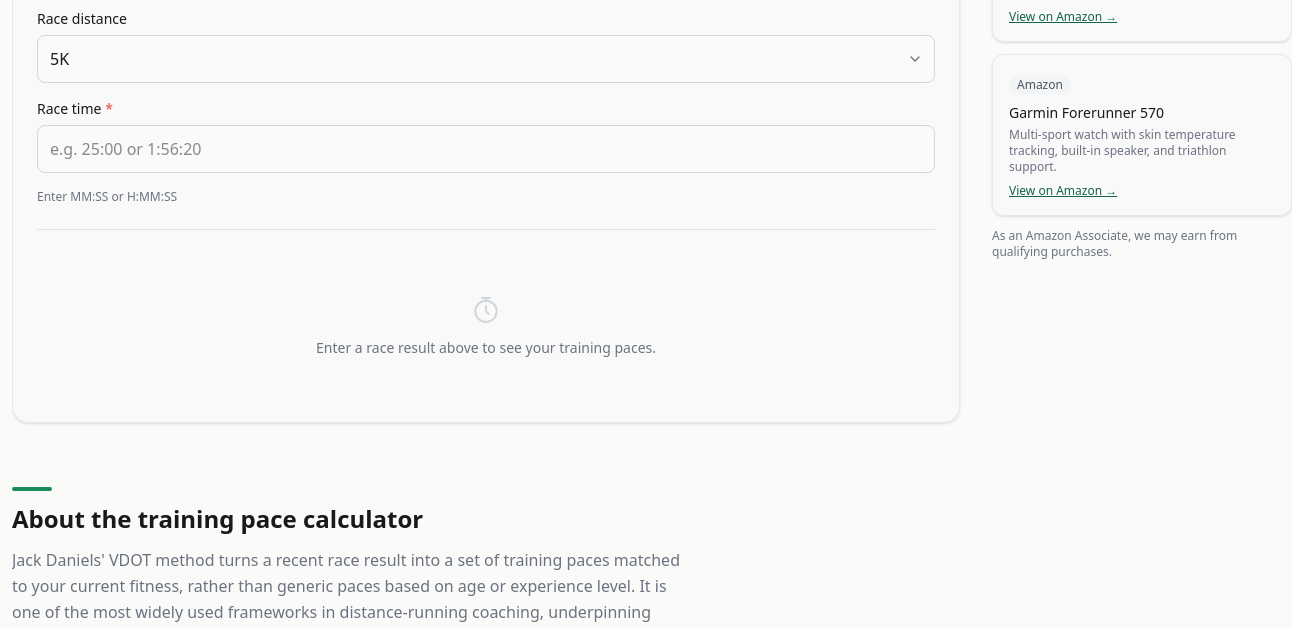
Test case: TrainingPaces page › shows the results table when a valid time is entered
The width and height of the screenshot is (1292, 628).
In the field labelled "Race time *": x=486, y=149 [37,125,935,173], type "25:00"
(page scrolled)
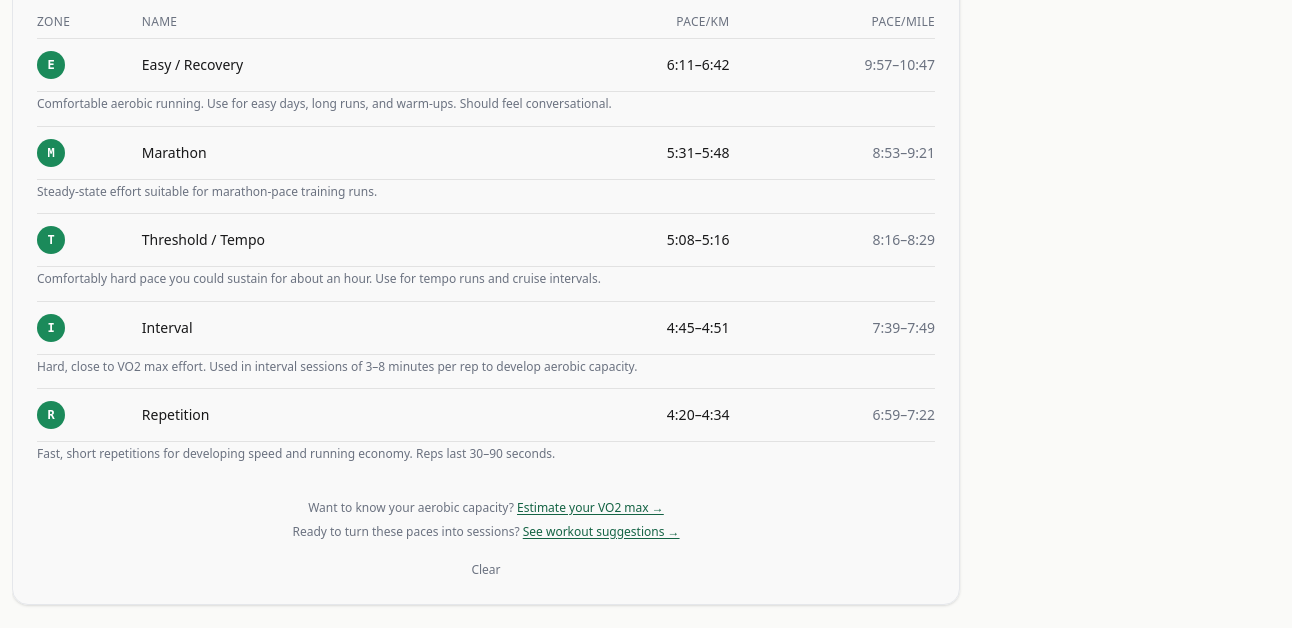
Expected: the table is shown, [37,14,935,476]
